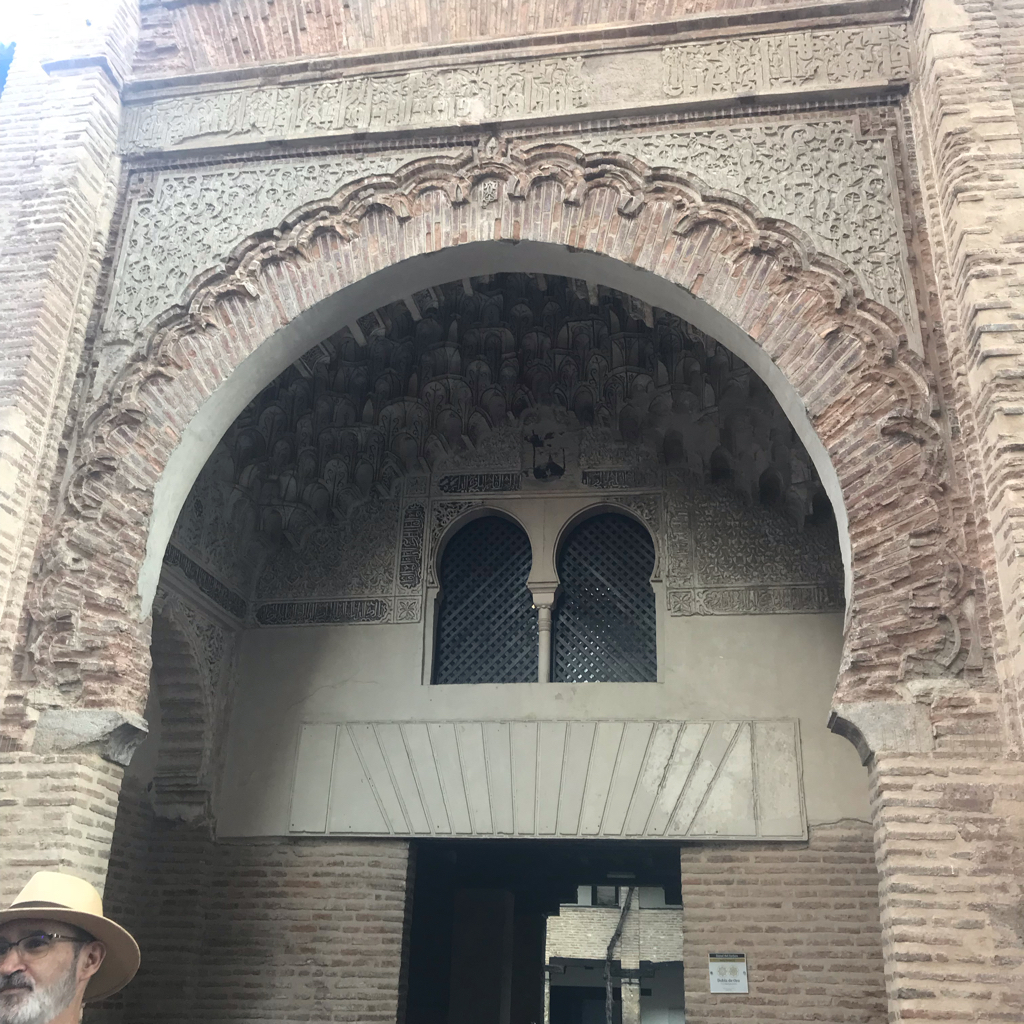arco-herradura: (80, 213, 901, 794), (426, 497, 546, 610), (545, 494, 665, 600)
dintel-adovelado: (343, 718, 746, 842)
